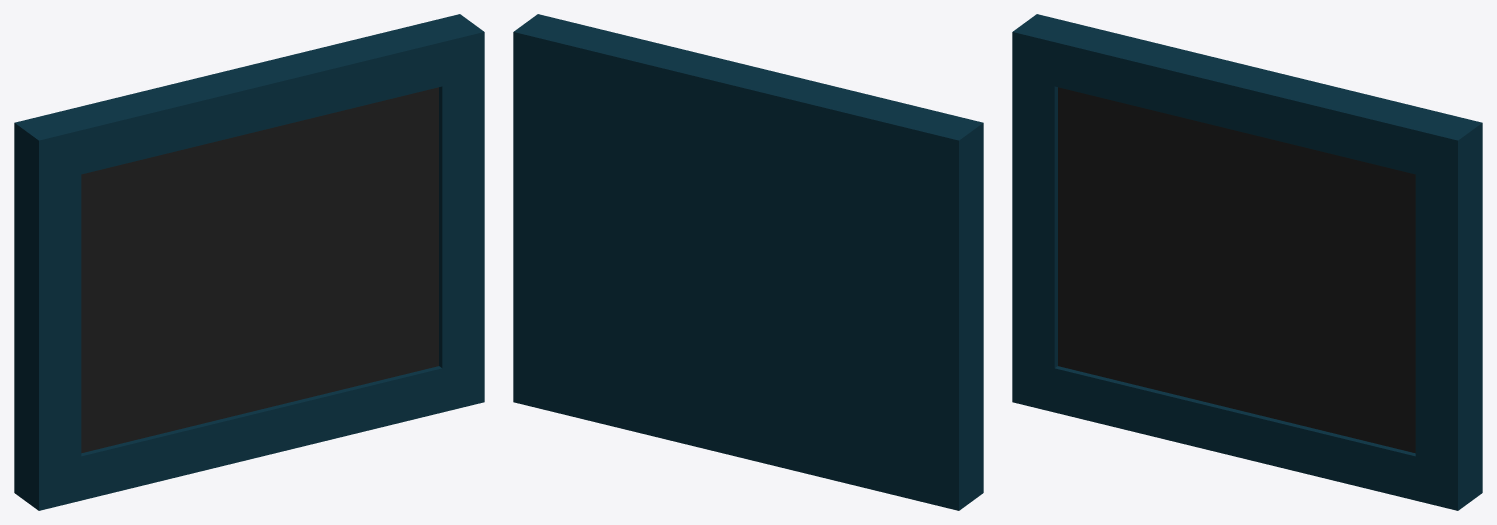
The model's file is Itr_Obj_Laptop_Screen_off_03.FBX.
The picture shows the model from 3 angles, left to right: view 1: azimuth 30°, elevation 25°; view 2: azimuth 150°, elevation 25°; view 3: azimuth 330°, elevation 25°; orthographic projection.
Visible parts, largest first — view 1: Itr_Obj_Laptop_Screen_off_03; view 2: Itr_Obj_Laptop_Screen_off_03; view 3: Itr_Obj_Laptop_Screen_off_03.
Part boxes in pixels (x1,y1,x2,y2): Itr_Obj_Laptop_Screen_off_03: (14, 14, 484, 510); Itr_Obj_Laptop_Screen_off_03: (513, 14, 983, 510); Itr_Obj_Laptop_Screen_off_03: (1012, 14, 1482, 510).
Bounding box in the file's own units: 29.1 × 23.12 × 2.77.
